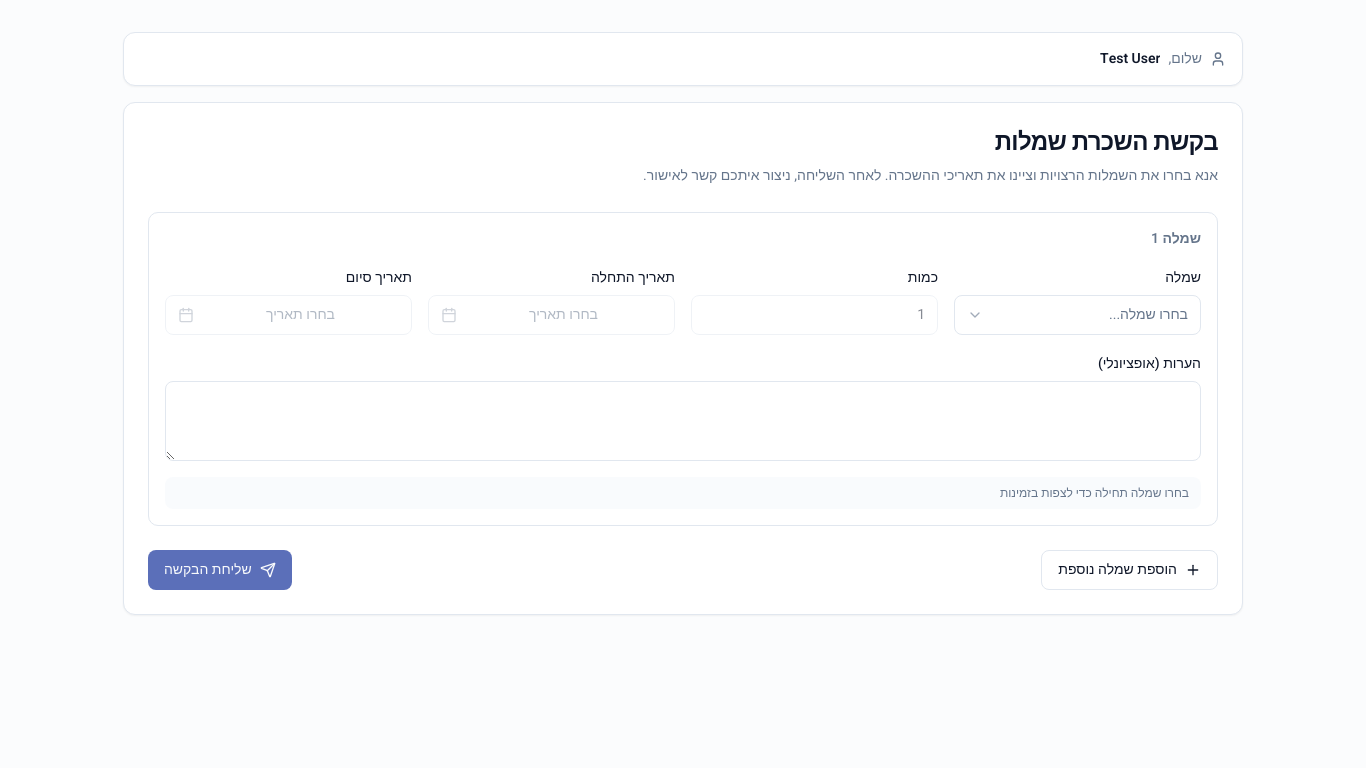
RequestPage › shows an empty-state message when the search has no results
Click the button labelled "בחרו שמלה...". click: (1078,315)
box: [954,295,1201,335]
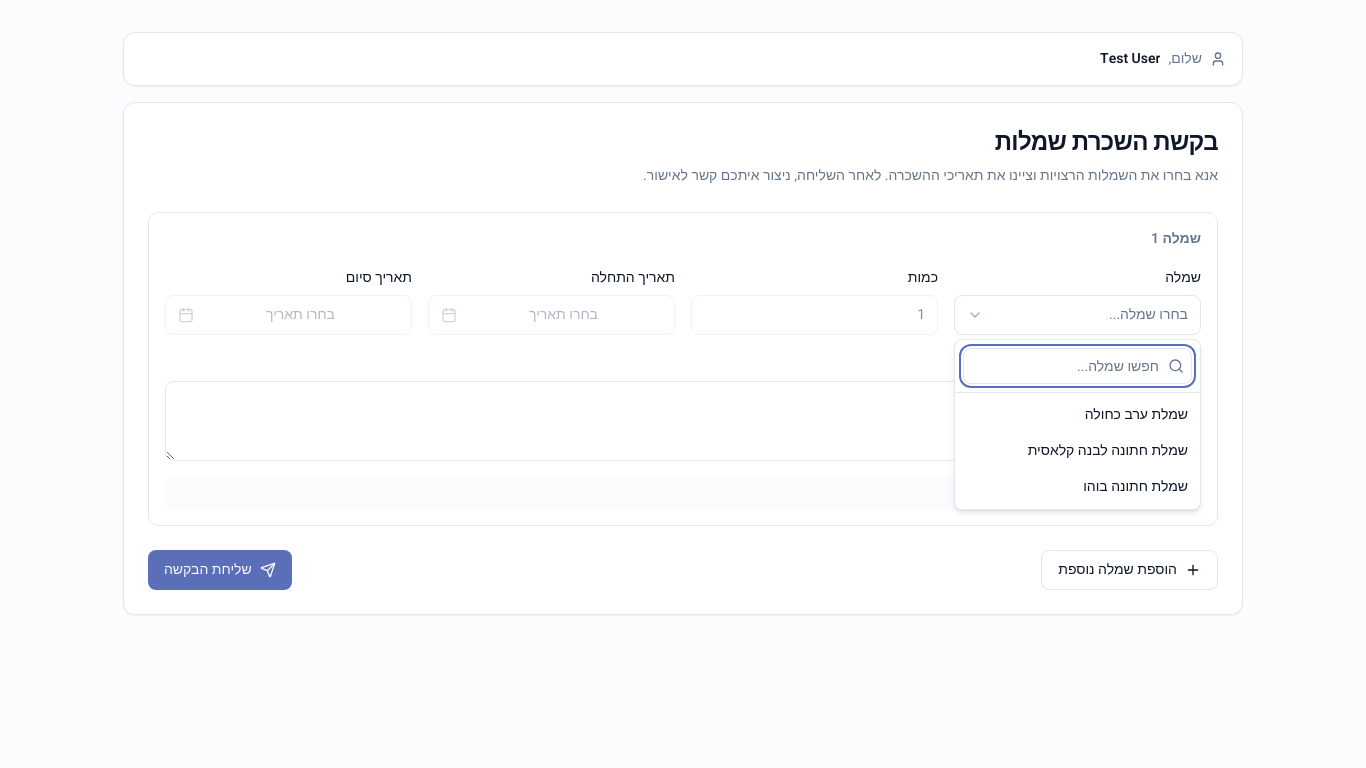
Now the option "שמלת ערב כחולה" is shown, box [959,397,1196,433]
Type "אין כזו שמלה" into the field named "חיפוש שמלה". click: (1078,366)
box: [963,348,1192,384]
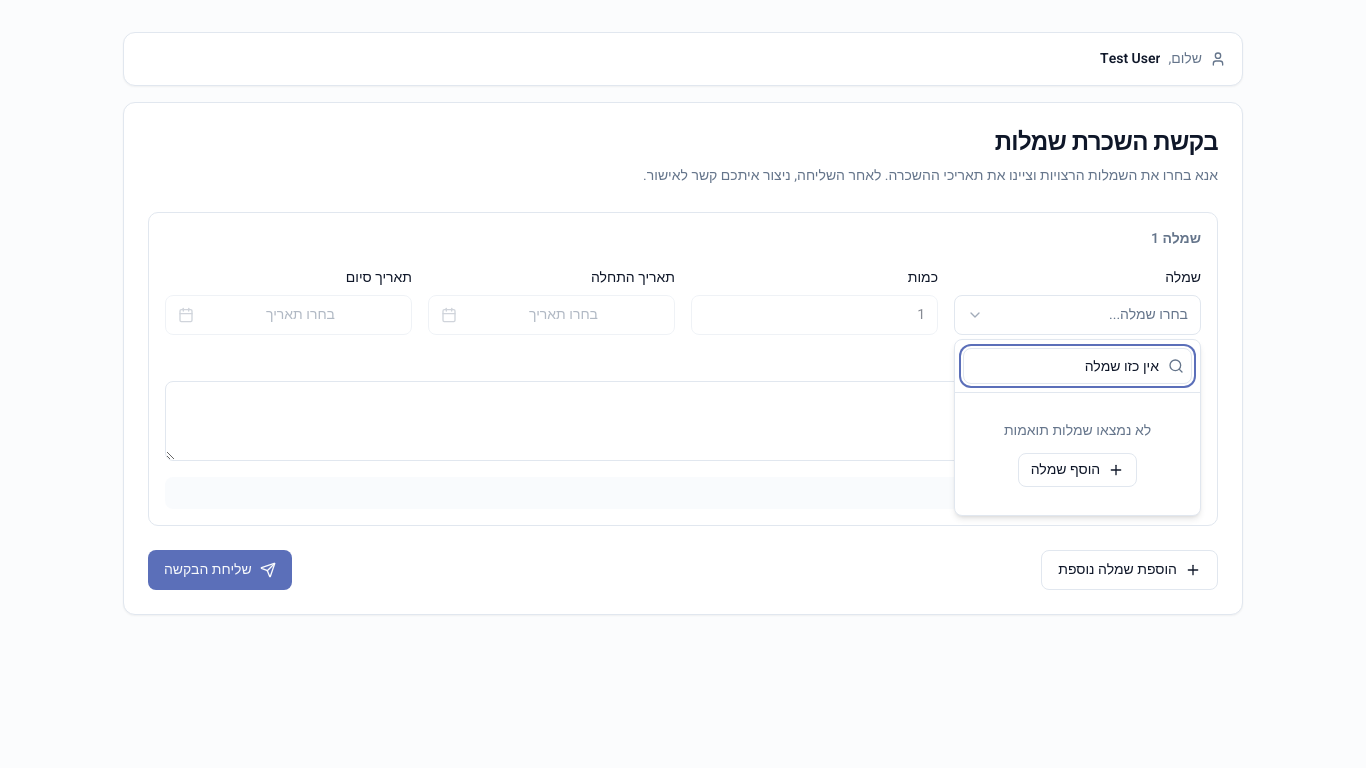
Now the text "לא נמצאו שמלות תואמות" is shown, box [1004,421,1151,441]
